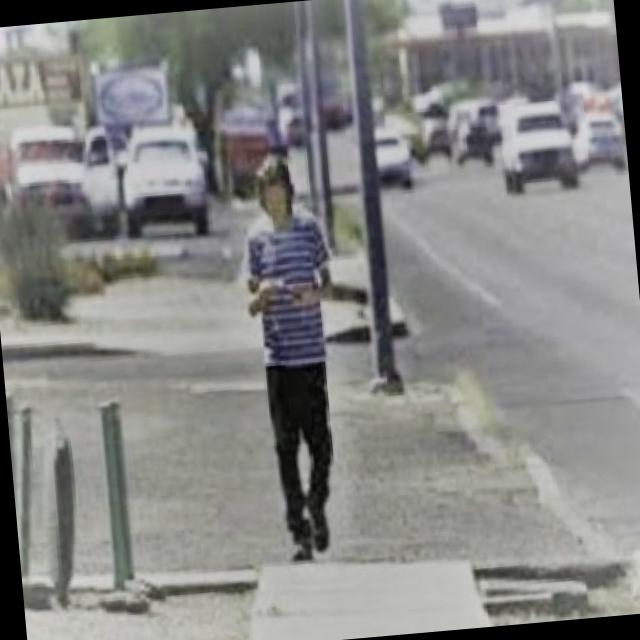Person: (222, 143, 362, 572)
